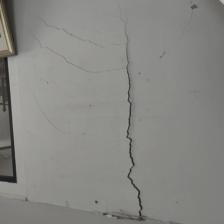Medium: (91, 52, 165, 223)
